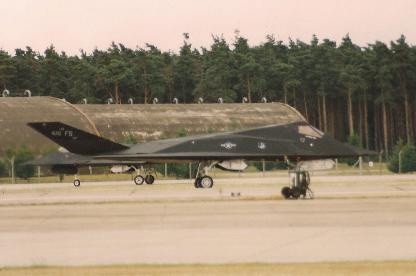E7: (26, 120, 387, 186), (17, 141, 165, 185)
